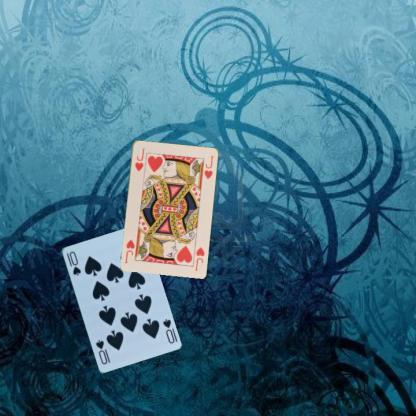10s: (63, 248, 82, 277), (160, 315, 176, 344)
Jh: (192, 244, 206, 272), (132, 146, 146, 172)
